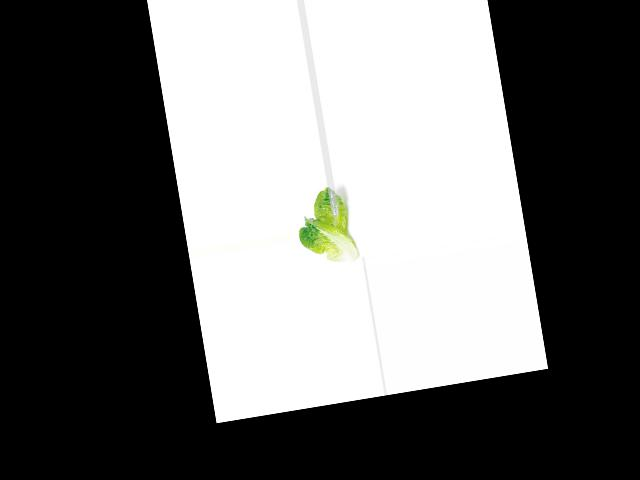lettuce: (291, 182, 357, 271)
